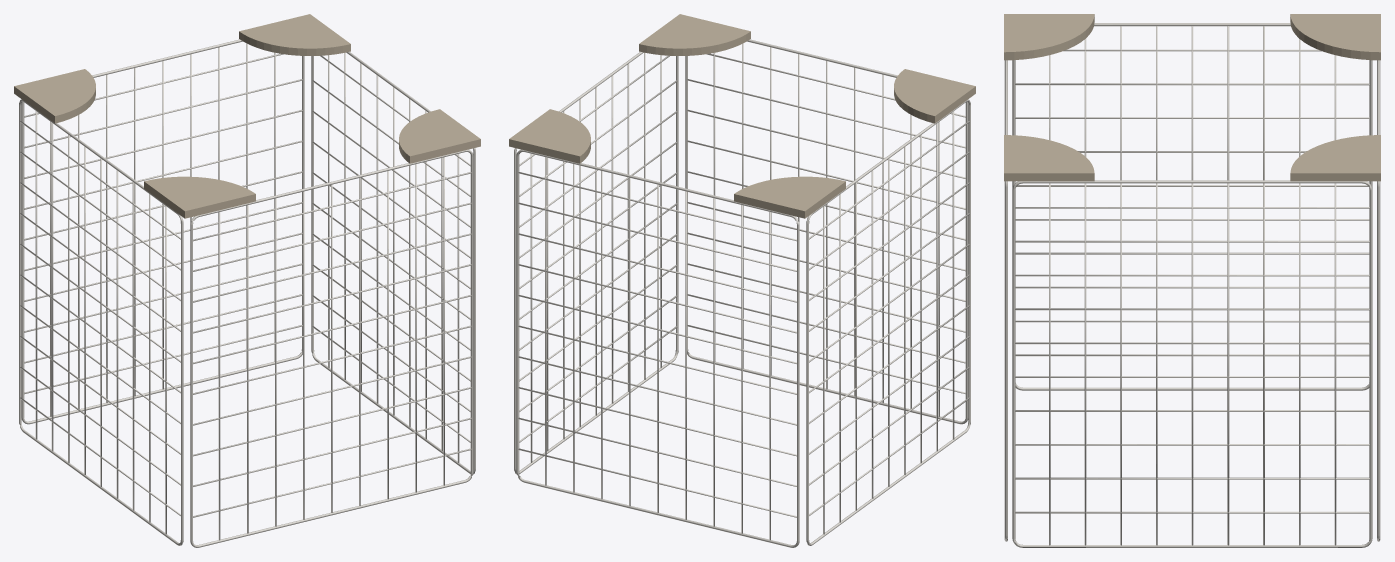
File: paseco-camp-stove-guard.glb
3 views of the same model, side by side, from view 1: azimuth 30°, elevation 25°; view 2: azimuth 150°, elevation 25°; view 3: azimuth 270°, elevation 25° (orthographic). The views are drawn at different scales.
Bounding box in the file's own units: 0.5 × 0.5497 × 0.5.
